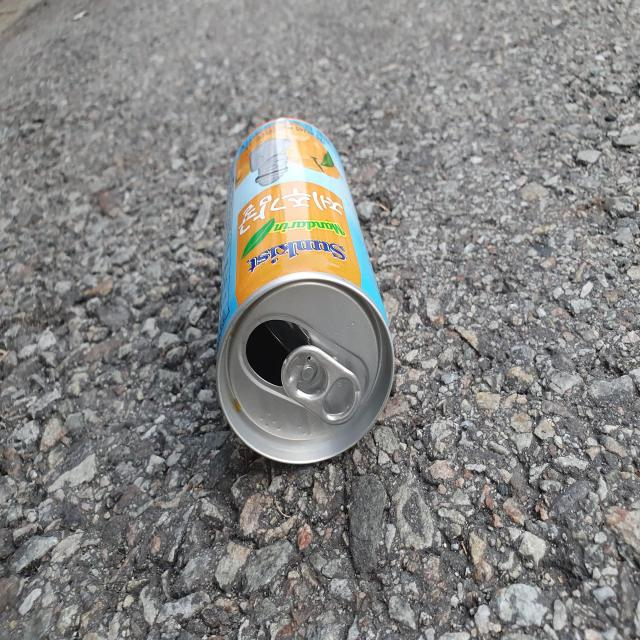can: (217, 117, 395, 464)
